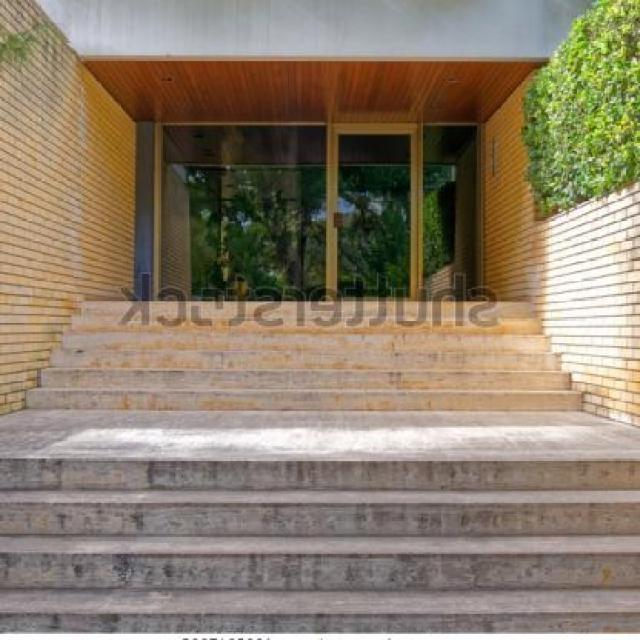stair: (1, 195, 640, 638)
